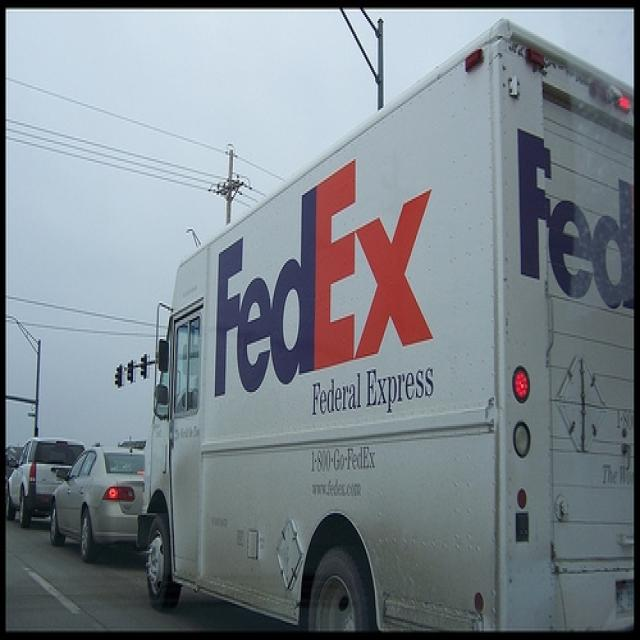fedex: (212, 155, 438, 405)
